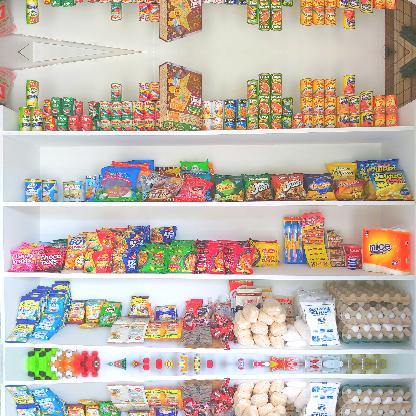Koko-Krunch: (158, 60, 202, 130), (158, 0, 202, 45)
